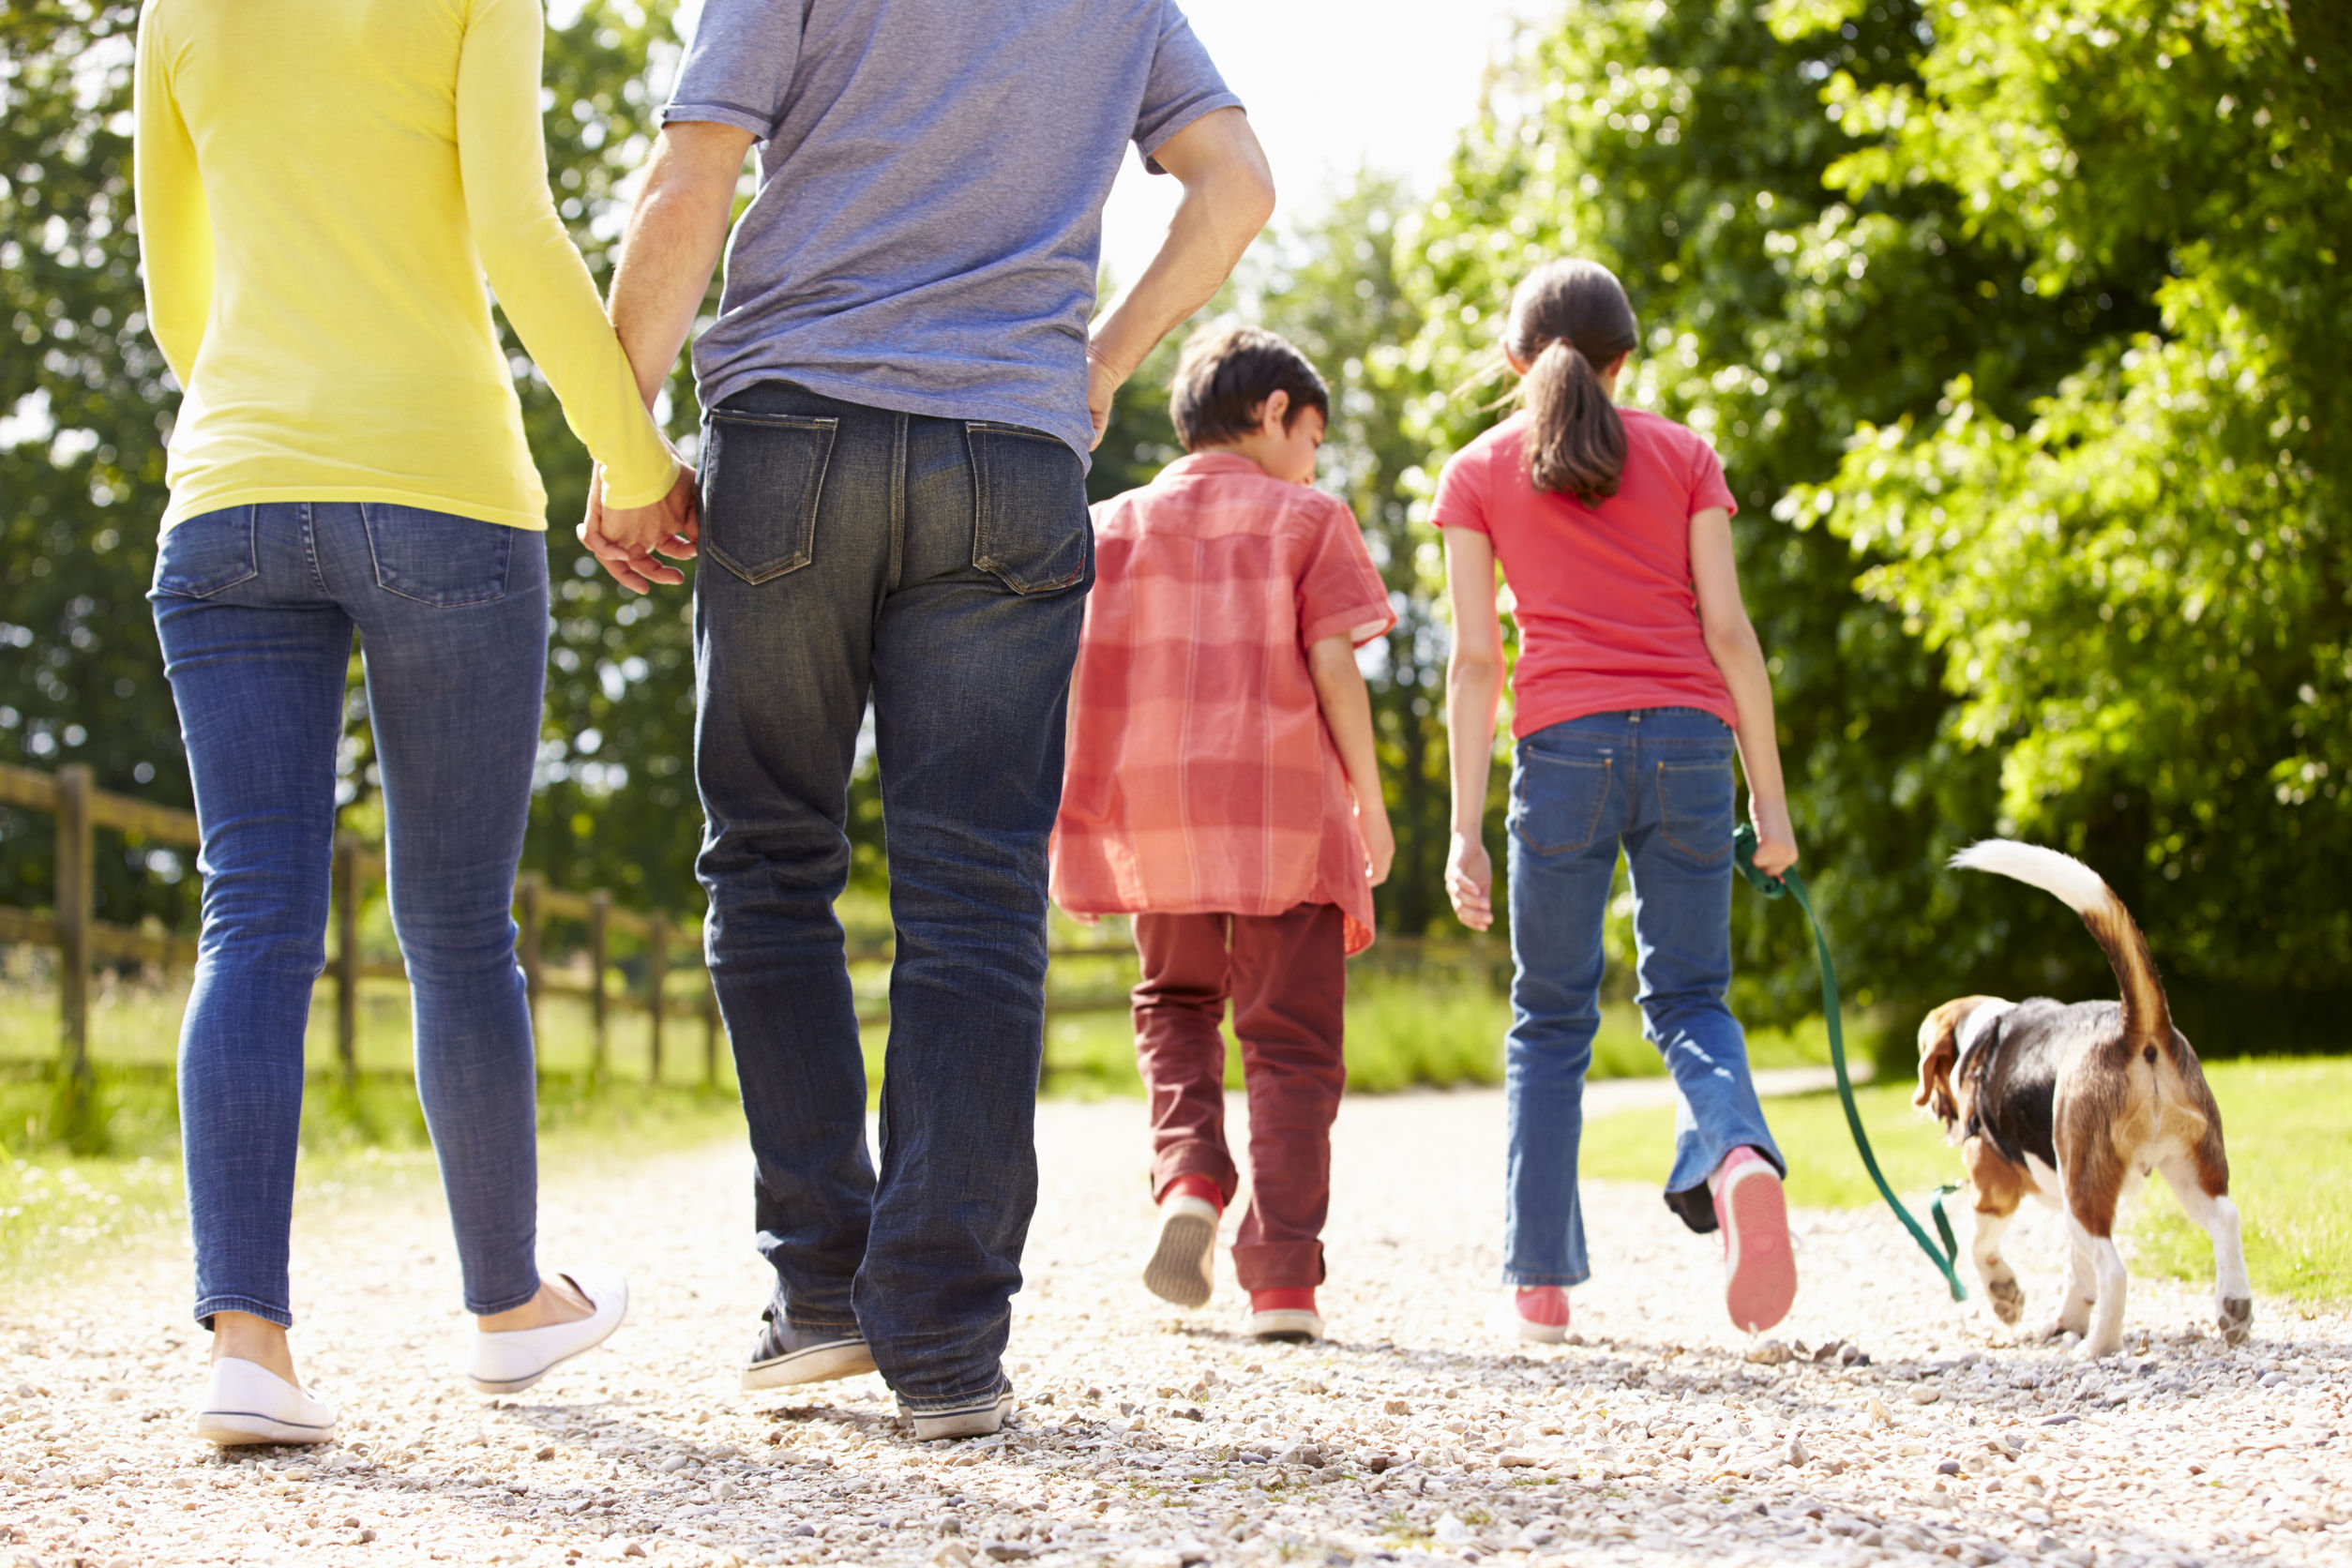Person: (597, 11, 1275, 1500), (78, 1, 687, 1491), (1386, 234, 1902, 1346), (1024, 323, 1429, 1406)
